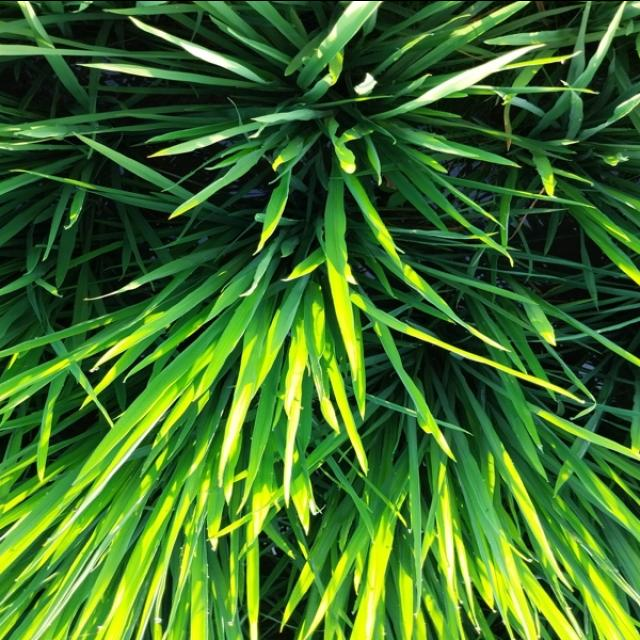Brown spot: (499, 98, 514, 152)
